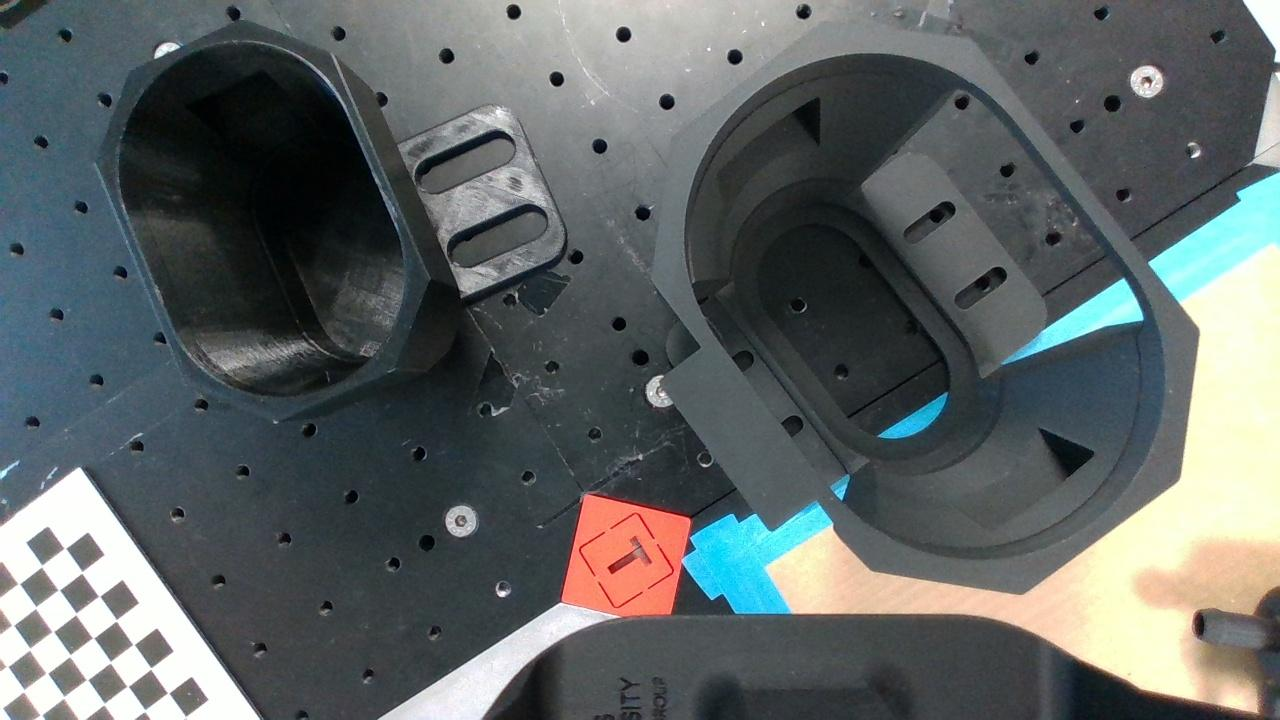big_interface: (650, 21, 1201, 594)
small_interface: (95, 19, 432, 422)
